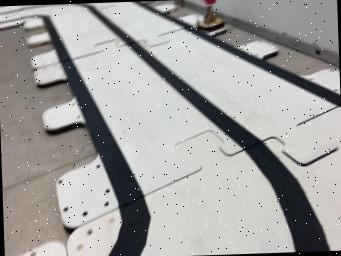street: (0, 1, 341, 256), (0, 1, 341, 256), (0, 1, 341, 256)
